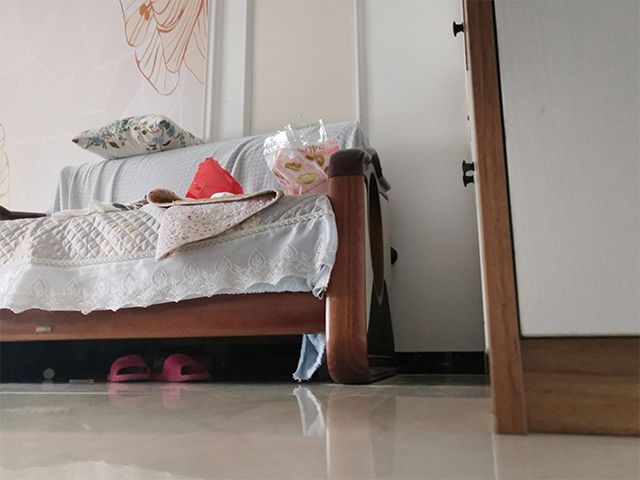cabinet: (448, 1, 640, 438)
slippers: (106, 352, 160, 385), (157, 350, 211, 383)
sofa: (1, 121, 400, 387)
